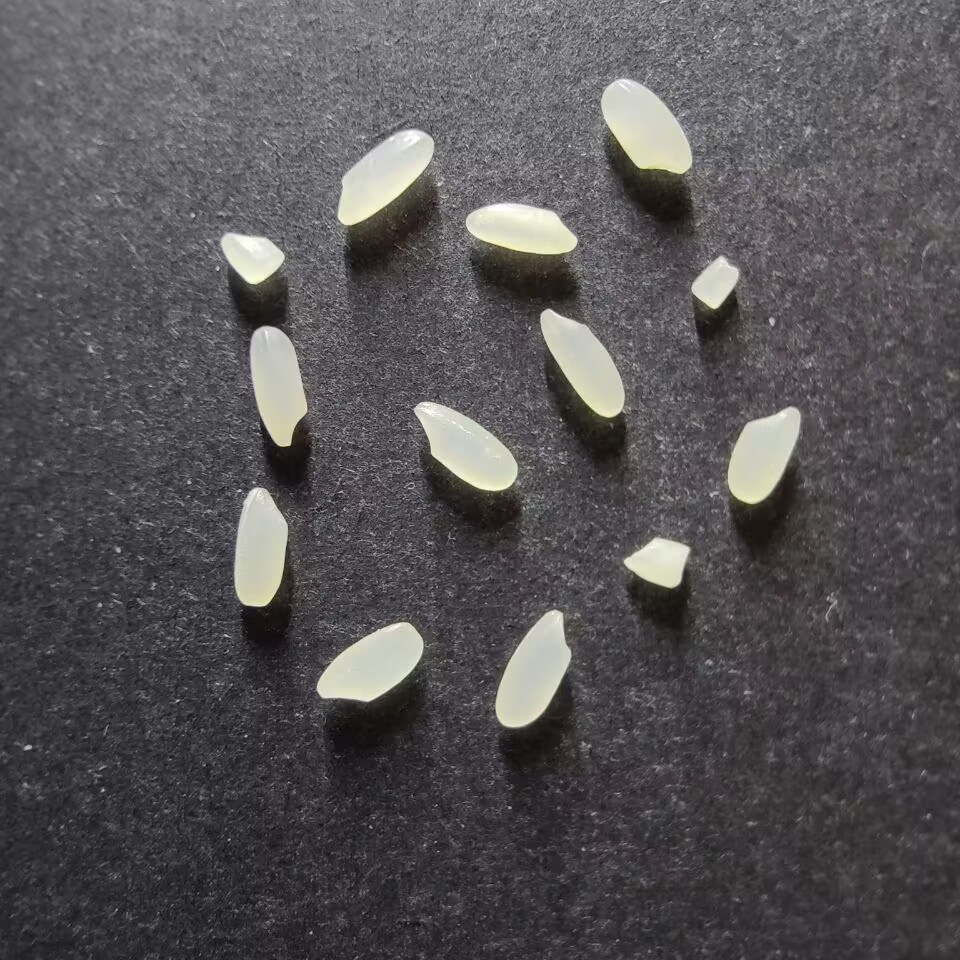broken: (218, 230, 286, 285), (621, 536, 690, 589), (689, 254, 740, 310)
rice: (334, 128, 434, 227), (538, 307, 626, 419), (412, 400, 519, 492), (493, 608, 573, 728), (599, 78, 692, 174), (315, 622, 423, 702), (726, 404, 801, 504), (248, 325, 308, 447), (232, 486, 288, 607), (464, 203, 578, 255)
